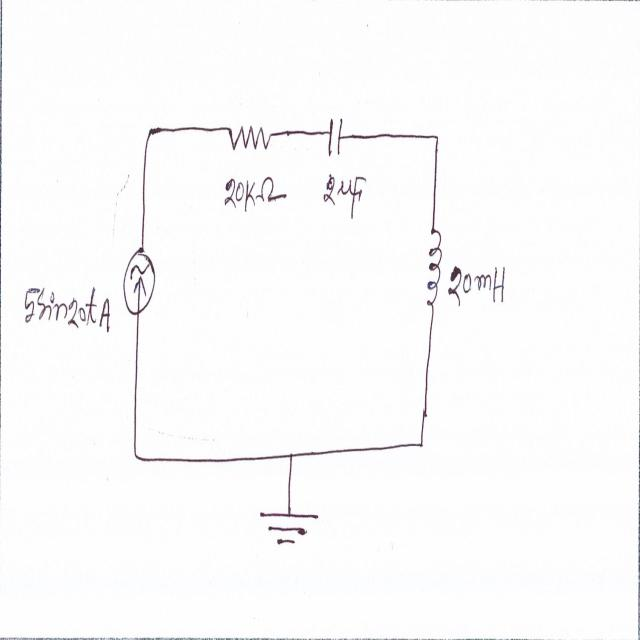capacitor: (325, 110, 346, 165)
current_source: (118, 247, 156, 319)
ground: (257, 506, 326, 552)
inductor: (424, 224, 445, 308)
resistor: (228, 115, 272, 162)
